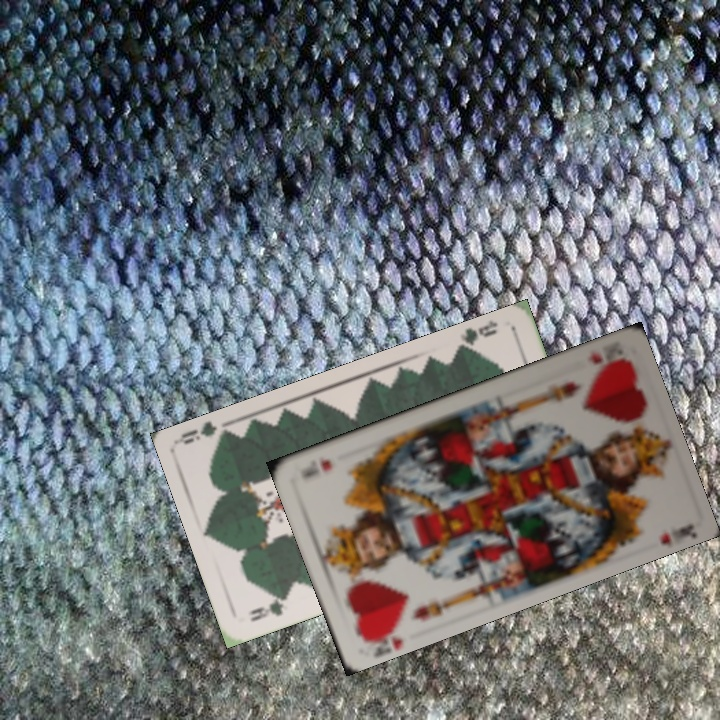G9: (453, 317, 501, 354), (245, 589, 292, 625)
HK: (359, 619, 406, 657), (584, 338, 627, 376)
